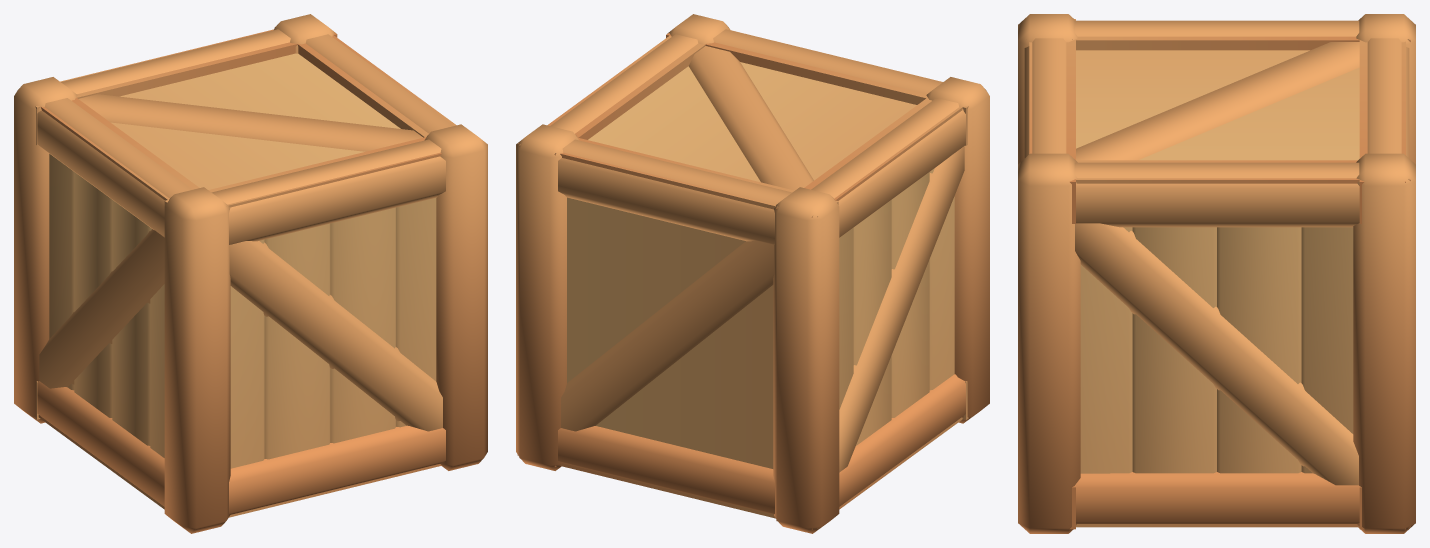
Rendered from crate.fbx.
The picture shows the model from 3 angles, left to right: view 1: azimuth 30°, elevation 25°; view 2: azimuth 150°, elevation 25°; view 3: azimuth 270°, elevation 25°; orthographic projection. The views are drawn at different scales.
Visible parts, largest first — view 1: crate, crate low; view 2: crate, crate low; view 3: crate, crate low.
Boxes of the visible parts, x1,y1,x2,y2 form: crate: (14,14,487,533); crate low: (16,26,456,517); crate: (516,14,989,533); crate low: (517,30,968,529); crate: (1018,14,1415,533); crate low: (1026,19,1410,529).
Size of the model in its own units: 116 by 119 by 118.
Materials: 1 (1 with a texture image).
